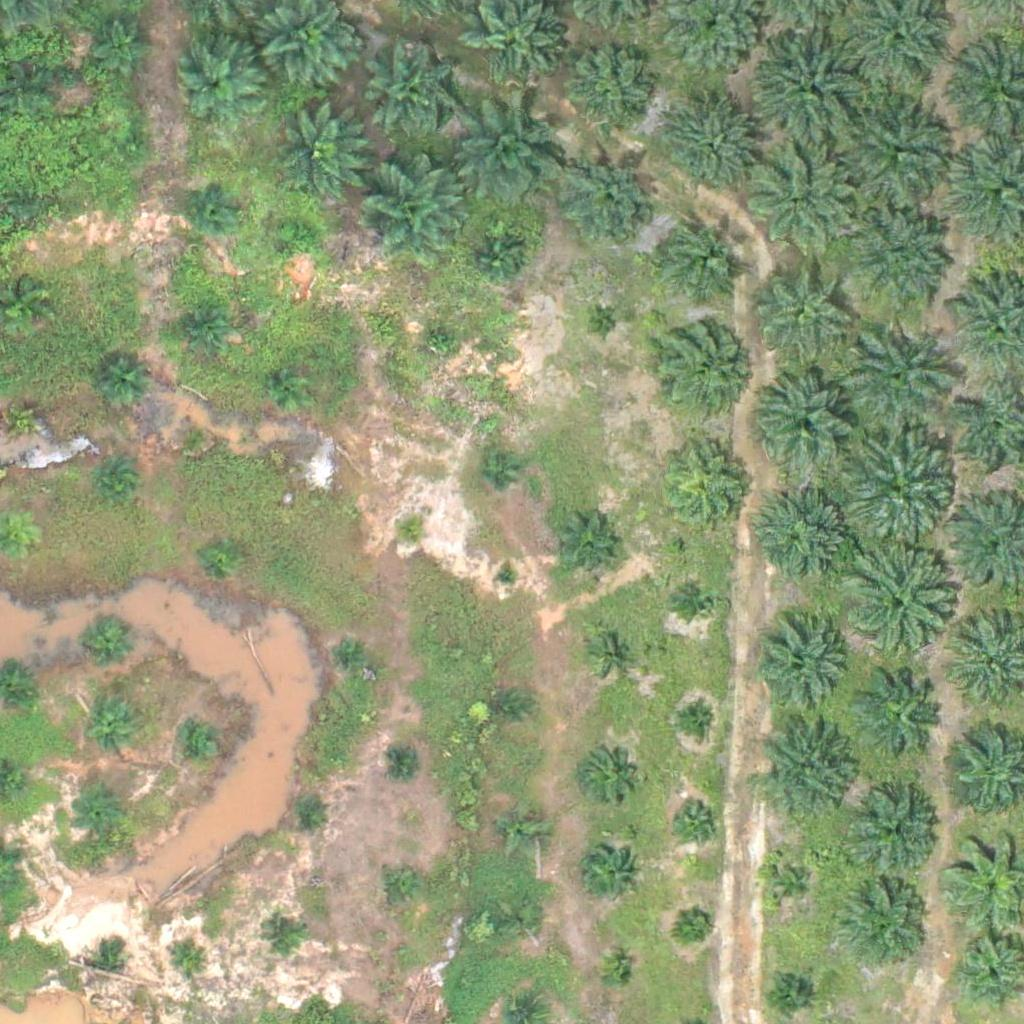Kelapa_Sawit: (745, 25, 870, 151), (836, 89, 961, 215), (834, 426, 959, 551), (834, 545, 959, 670), (456, 98, 569, 211), (843, 203, 956, 316), (840, 321, 953, 434), (745, 148, 857, 261), (661, 100, 761, 201), (747, 254, 847, 355), (758, 371, 858, 472), (755, 490, 855, 591), (752, 618, 852, 719), (650, 209, 750, 310), (652, 315, 752, 416), (657, 436, 757, 537), (363, 163, 463, 264), (760, 720, 860, 821), (266, 103, 366, 203), (365, 46, 453, 134), (840, 878, 928, 966), (852, 786, 940, 874), (859, 673, 947, 761), (176, 43, 263, 132), (565, 154, 652, 243), (564, 47, 651, 135), (552, 517, 615, 580), (92, 11, 154, 74), (579, 844, 641, 907), (93, 360, 143, 411), (83, 618, 133, 669), (471, 231, 521, 282), (582, 747, 632, 798), (498, 804, 548, 855), (1, 389, 51, 440), (88, 702, 138, 752), (74, 788, 124, 838), (3, 69, 53, 119), (763, 967, 813, 1017), (766, 858, 816, 908), (671, 794, 721, 844), (177, 305, 227, 355), (190, 182, 240, 232), (488, 689, 526, 727), (280, 217, 318, 255), (271, 368, 309, 406), (423, 324, 461, 362), (585, 305, 623, 343), (391, 514, 429, 552), (682, 583, 720, 621), (181, 726, 218, 764), (598, 956, 636, 993), (676, 700, 713, 738), (594, 633, 631, 671), (388, 744, 426, 781), (264, 919, 301, 957), (505, 902, 543, 939), (678, 904, 715, 942), (9, 184, 46, 222), (114, 129, 151, 167), (475, 453, 512, 491), (172, 414, 209, 452), (168, 943, 205, 981), (98, 464, 135, 501), (286, 792, 323, 829), (383, 870, 420, 907), (203, 537, 240, 574), (334, 635, 371, 672), (91, 949, 116, 975), (494, 563, 519, 588)
